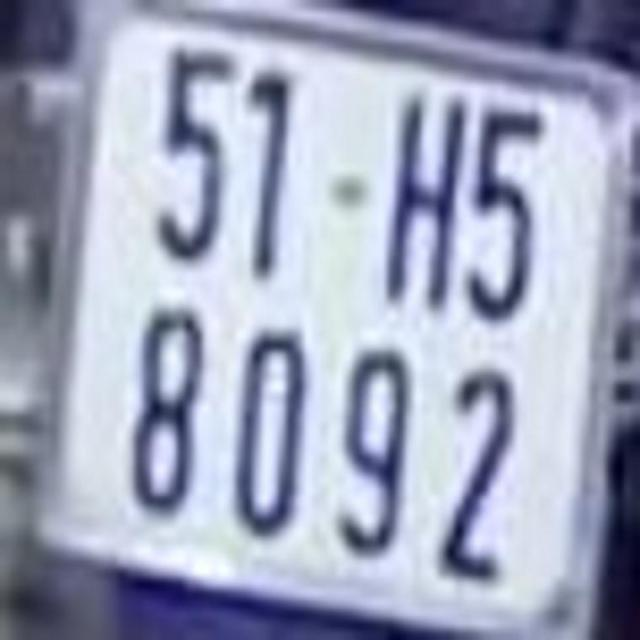0: (235, 332, 304, 538)
1: (242, 70, 290, 282)
2: (443, 368, 509, 581)
5: (156, 41, 238, 256), (469, 106, 542, 321)
8: (134, 306, 198, 512)
9: (342, 346, 406, 552)
H: (384, 96, 464, 310)
